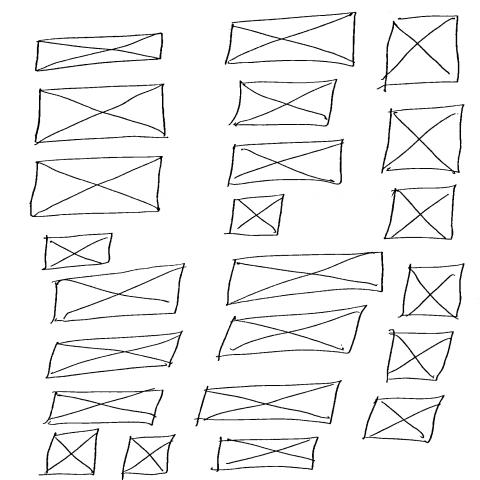Image: (225, 252, 386, 307), (29, 156, 164, 219), (217, 305, 369, 360), (35, 84, 168, 145), (51, 270, 189, 325), (225, 13, 359, 69), (46, 331, 185, 380), (197, 380, 344, 426), (380, 104, 466, 175), (227, 139, 347, 188), (384, 15, 461, 89), (229, 79, 339, 128), (35, 33, 165, 72), (43, 389, 166, 426), (361, 395, 446, 445), (216, 437, 320, 473), (400, 264, 468, 319), (386, 331, 456, 384), (43, 233, 115, 271), (45, 429, 101, 477), (227, 195, 286, 238), (121, 435, 178, 476)
